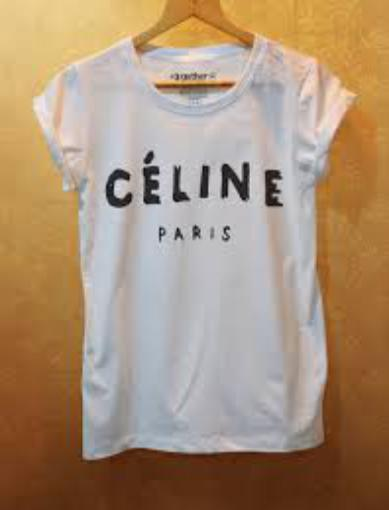CELINE: (100, 146, 288, 214)
